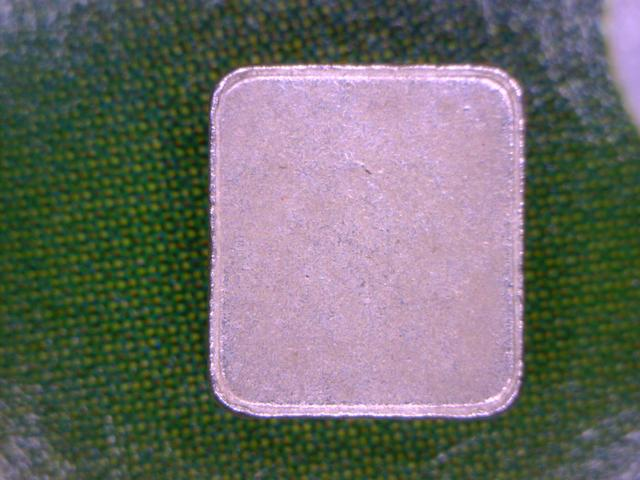nok: (201, 61, 532, 421)
